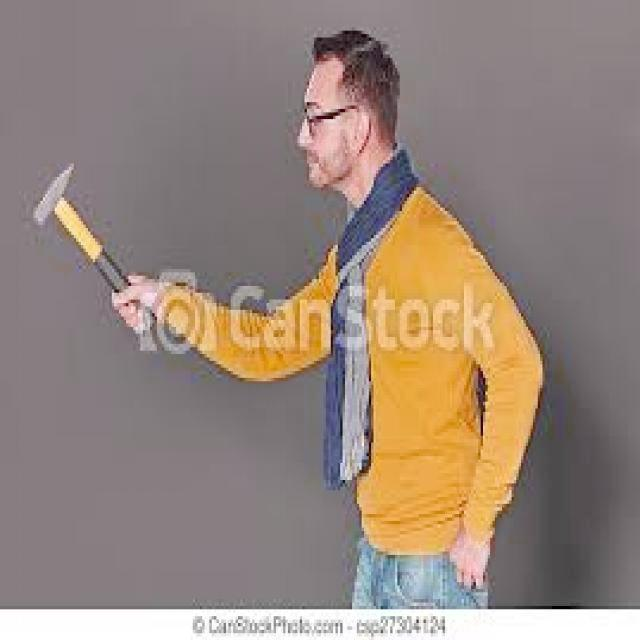hammer: (29, 158, 158, 336)
